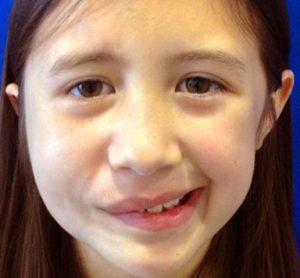strokeEyeWeak: (49, 44, 251, 112)
strokeMouthMid: (85, 180, 224, 235)
